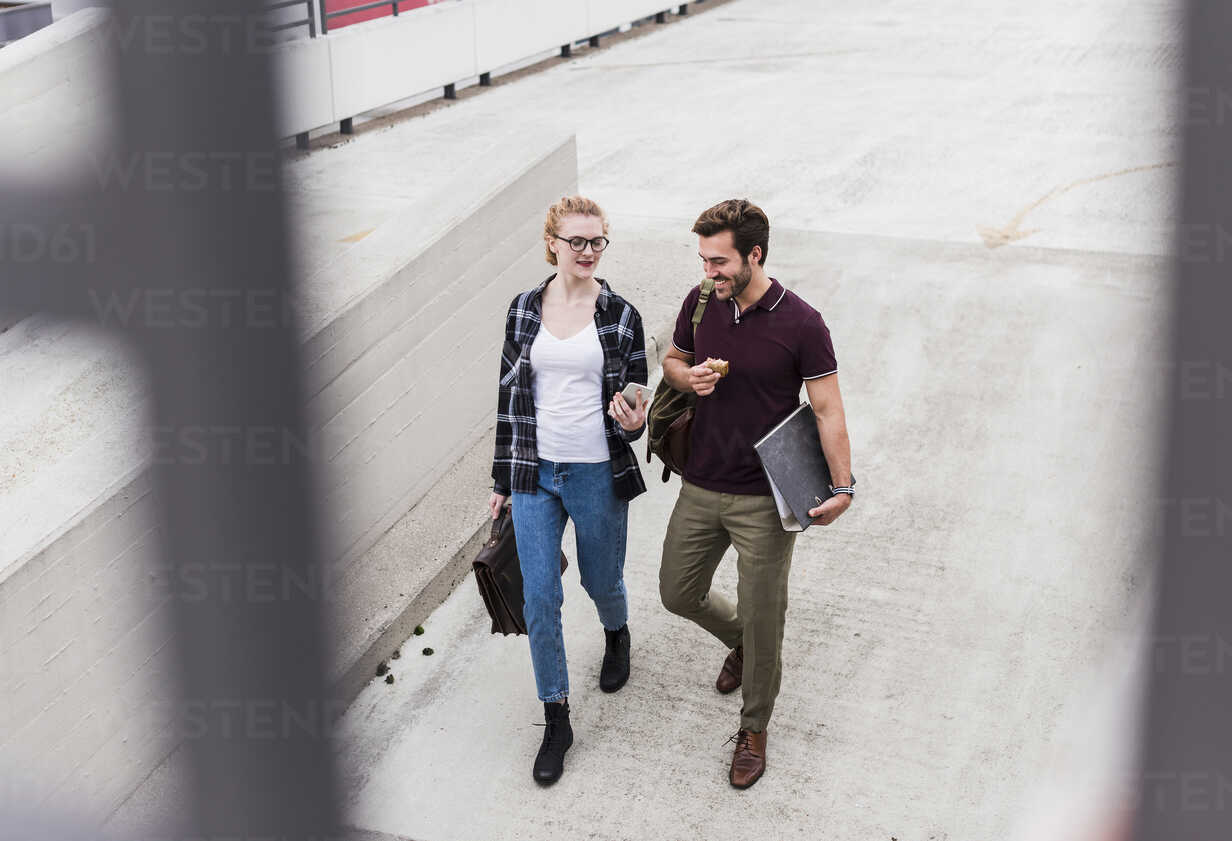person: (652, 191, 862, 799), (484, 189, 662, 793)
